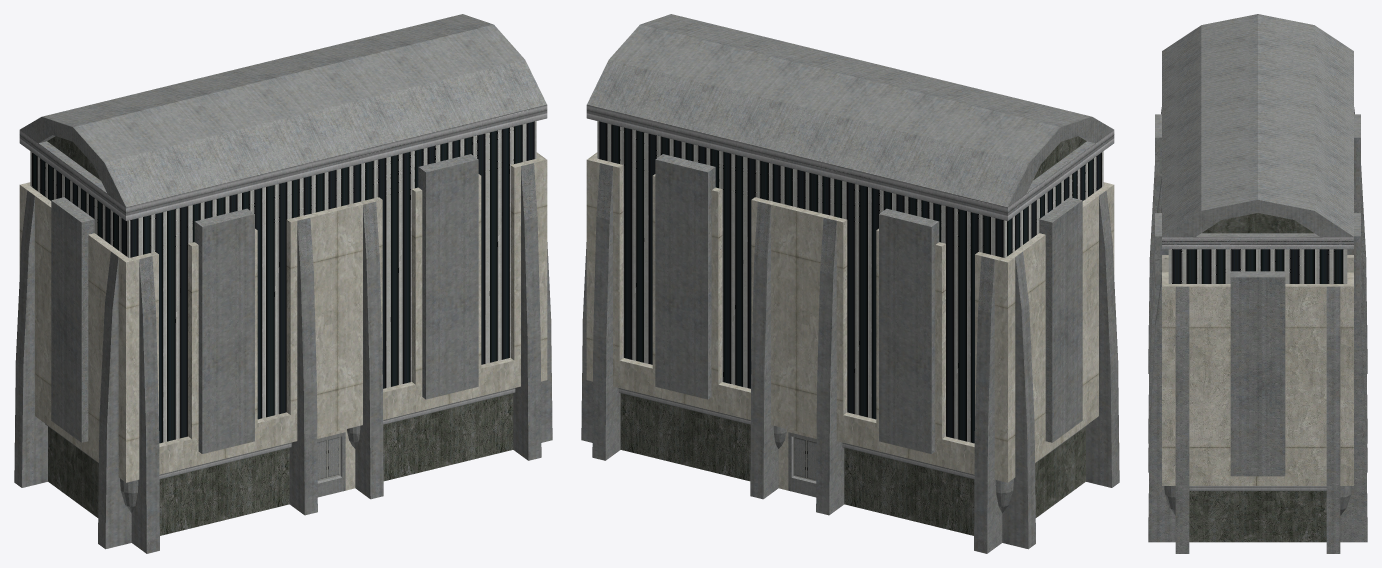
File: thm_corl_imprv_building_block_32x16_s01_l1.fbx
3 views of the same model, side by side, from view 1: azimuth 30°, elevation 25°; view 2: azimuth 150°, elevation 25°; view 3: azimuth 270°, elevation 25° (orthographic). The views are drawn at different scales.
Visible parts, largest first — view 1: mesh_node; view 2: mesh_node; view 3: mesh_node.
Part boxes in pixels (left/top/right/bottom): mesh_node: left=14, top=14, right=552, bottom=553; mesh_node: left=581, top=14, right=1119, bottom=553; mesh_node: left=1148, top=14, right=1367, bottom=553.
Bounding box in the file's own units: 33.98 × 27.99 × 15.98.
